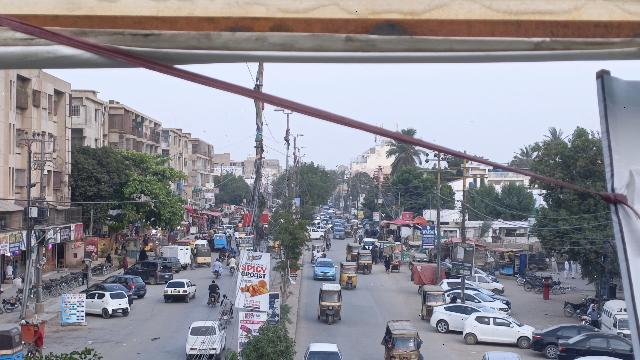Bike: (208, 291, 221, 308), (221, 309, 233, 323)
Car: (461, 309, 534, 349), (556, 333, 633, 360), (428, 301, 488, 333), (184, 320, 226, 358), (529, 322, 574, 353), (124, 260, 174, 285), (86, 291, 130, 319), (105, 273, 148, 298), (162, 279, 198, 305), (301, 341, 343, 360), (311, 257, 339, 281)
Cart: (390, 250, 402, 274)
Person: (31, 326, 45, 357), (78, 259, 89, 286), (206, 278, 221, 294), (589, 304, 599, 327), (221, 293, 233, 309), (384, 255, 391, 274)
Rickshaw: (380, 319, 423, 360), (315, 282, 344, 326), (418, 284, 444, 322), (338, 261, 358, 291), (191, 245, 212, 268), (356, 249, 373, 276), (343, 240, 359, 260)
Suzuki: (599, 300, 630, 337)
Truck: (156, 245, 192, 264)
